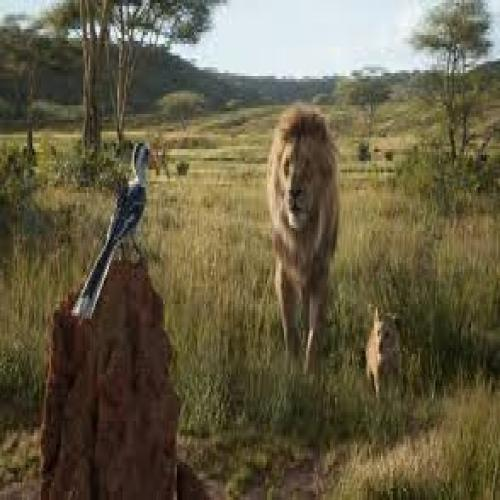lion-endangered: (272, 103, 340, 372), (364, 308, 400, 400)
